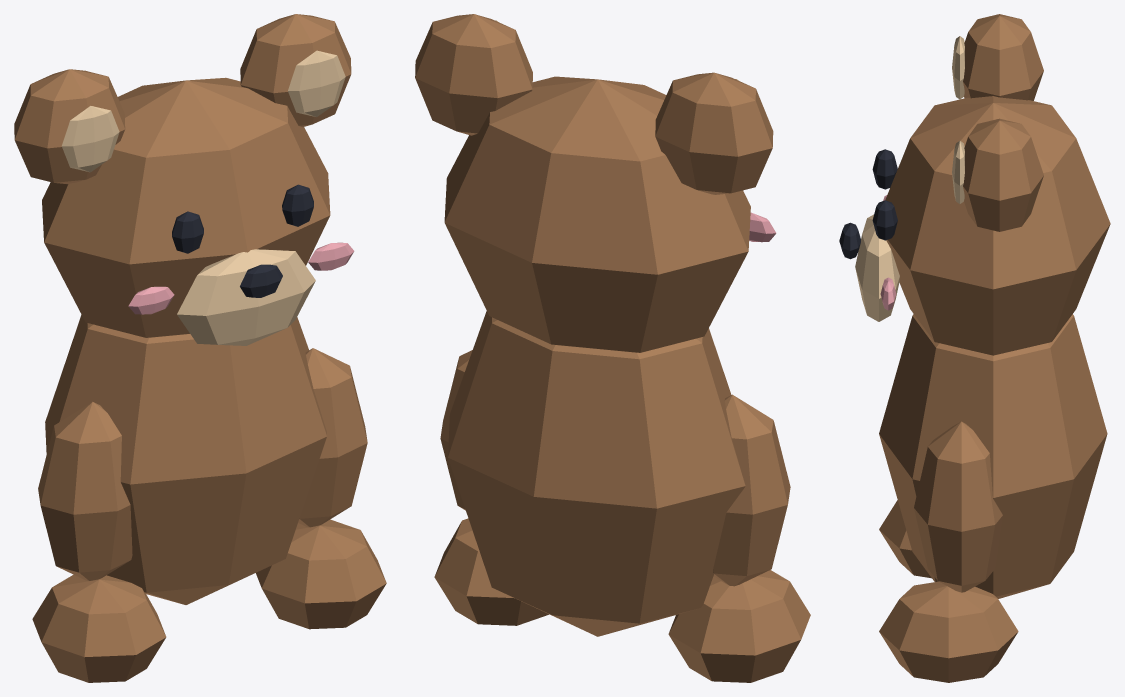
File: bear.obj
3 renders of one model, left to right at view 1: azimuth 30°, elevation 25°; view 2: azimuth 150°, elevation 25°; view 3: azimuth 270°, elevation 25°, orthographic. The views are drawn at different scales.
Parts seen in each view (by area): view 1: stage_1_part_0, stage_2_part_1, stage_6_part_10, stage_6_part_11, stage_6_part_13, stage_4_part_6, stage_6_part_12, stage_3_part_2, stage_3_part_4, stage_3_part_3, stage_3_part_5, stage_5_part_7 (+4 smaller); view 2: stage_1_part_0, stage_2_part_1, stage_3_part_2, stage_6_part_11, stage_3_part_4, stage_6_part_10, stage_6_part_13, stage_6_part_12, stage_6_part_14; view 3: stage_2_part_1, stage_1_part_0, stage_6_part_12, stage_6_part_13, stage_3_part_4, stage_3_part_2, stage_4_part_6, stage_6_part_11, stage_5_part_9, stage_5_part_8, stage_3_part_3, stage_3_part_5 (+1 smaller).
Part boxes in pixels (x1,y1,x2,y2): stage_1_part_0: [45, 314, 326, 604]; stage_2_part_1: [42, 77, 330, 337]; stage_6_part_10: [38, 402, 132, 580]; stage_6_part_11: [32, 574, 166, 682]; stage_6_part_13: [256, 519, 386, 629]; stage_4_part_6: [177, 249, 315, 345]; stage_6_part_12: [298, 348, 367, 527]; stage_3_part_2: [14, 69, 125, 184]; stage_3_part_4: [240, 14, 351, 127]; stage_3_part_3: [61, 106, 119, 172]; stage_3_part_5: [288, 50, 345, 117]; stage_5_part_7: [240, 264, 282, 297]; stage_1_part_0: [448, 311, 745, 636]; stage_2_part_1: [444, 76, 750, 352]; stage_3_part_2: [655, 72, 773, 194]; stage_6_part_11: [668, 570, 810, 682]; stage_3_part_4: [415, 14, 532, 135]; stage_6_part_10: [713, 394, 790, 586]; stage_6_part_13: [434, 518, 548, 625]; stage_6_part_12: [440, 350, 472, 510]; stage_6_part_14: [749, 212, 776, 242]; stage_2_part_1: [885, 96, 1110, 355]; stage_1_part_0: [879, 314, 1107, 598]; stage_6_part_12: [914, 421, 1002, 592]; stage_6_part_13: [879, 581, 1018, 682]; stage_3_part_4: [963, 118, 1043, 231]; stage_3_part_2: [963, 14, 1043, 100]; stage_4_part_6: [855, 214, 899, 321]; stage_6_part_11: [879, 500, 931, 578]; stage_5_part_9: [872, 200, 897, 240]; stage_5_part_8: [872, 149, 897, 189]; stage_3_part_3: [952, 36, 964, 99]; stage_3_part_5: [952, 141, 964, 203].
Size of the model in its own units: 1.16 by 1.94 by 0.855.
